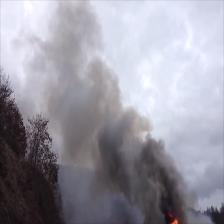fire: (170, 219, 178, 224)
smoke: (48, 1, 101, 141), (102, 108, 149, 190), (150, 147, 181, 215)
